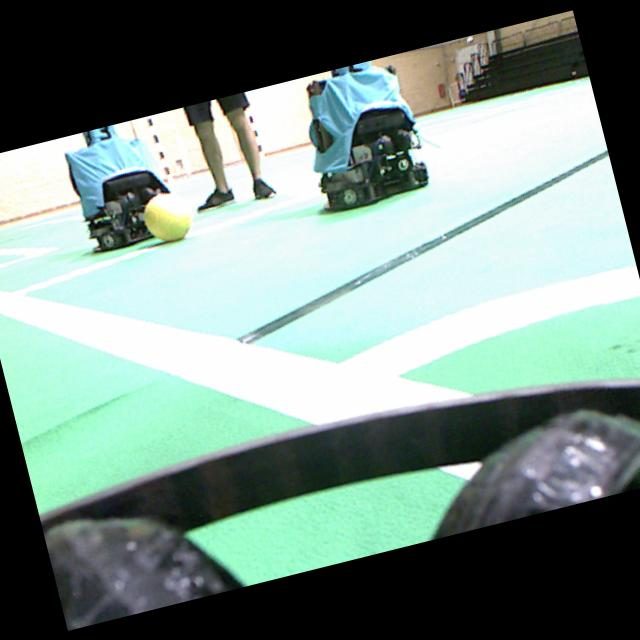ball: (143, 193, 192, 240)
